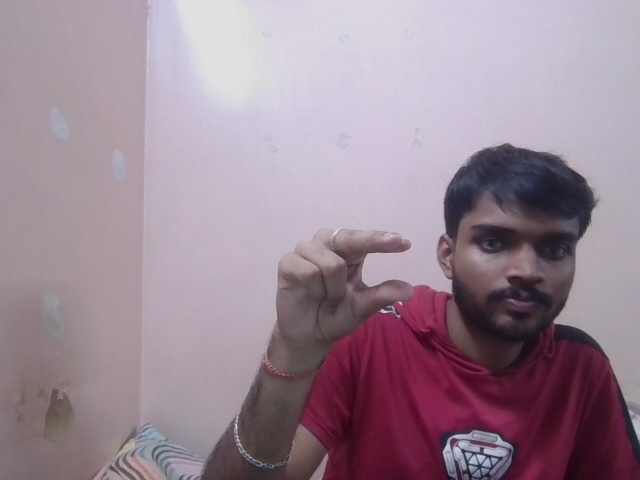No: (270, 220, 413, 335)
